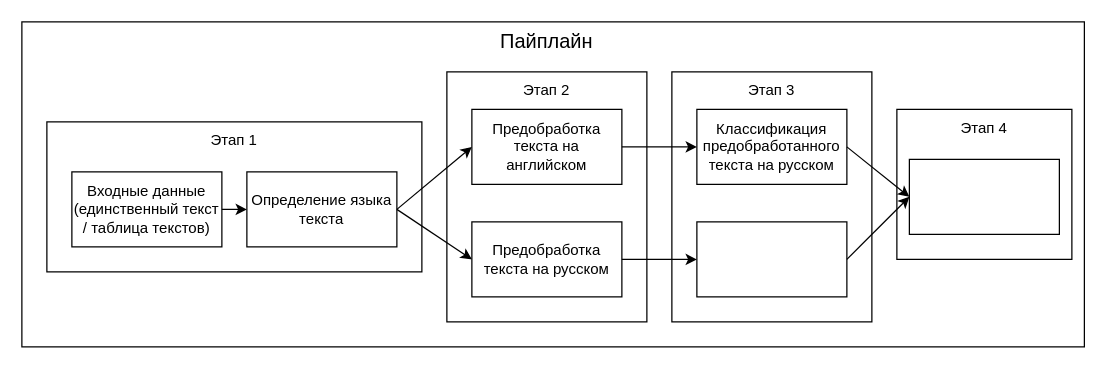
Image size: 1106x369. Some labels were removed from this diagram. Here are the shapes that lost their labels. From the top down, the box of each, then its label:
(908, 158, 1059, 234): Объединение классифицированных новостей
(696, 221, 847, 297): Классификация предобработанного текста на английском
